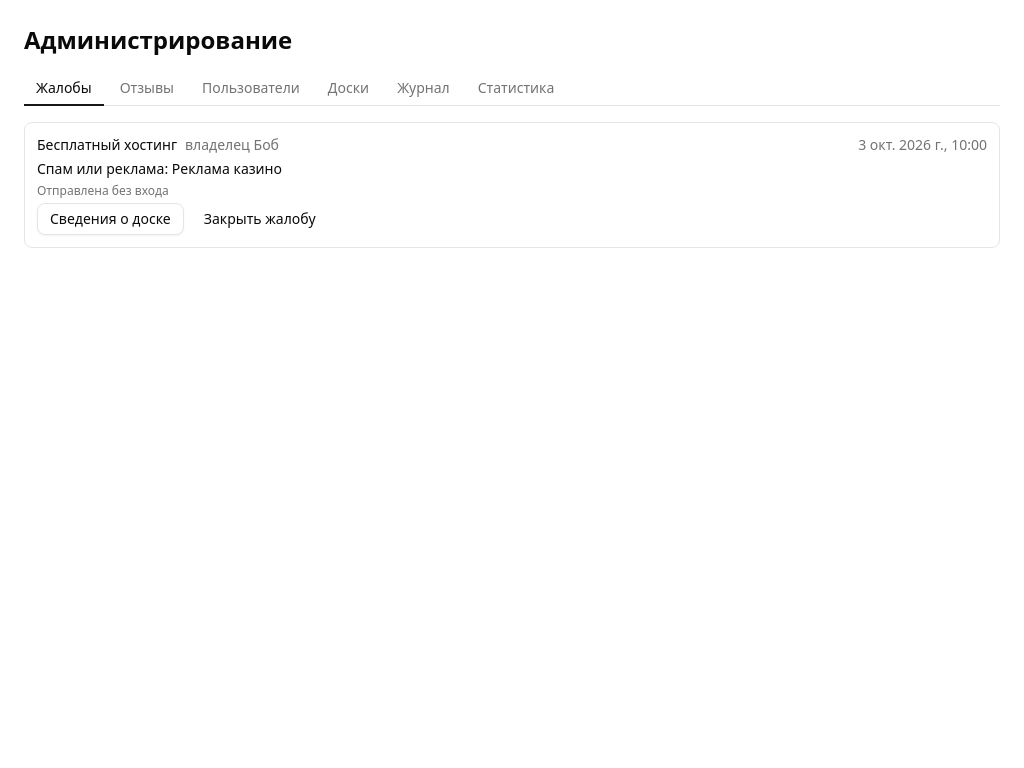
Scenario: AdminPage › deletes an account once the administrator confirms it, and says why it cannot when a workspace needs its owner
The image size is (1024, 768).
Step 1. Click the tab "Пользователи" → [251, 89], box [190, 72, 312, 106]
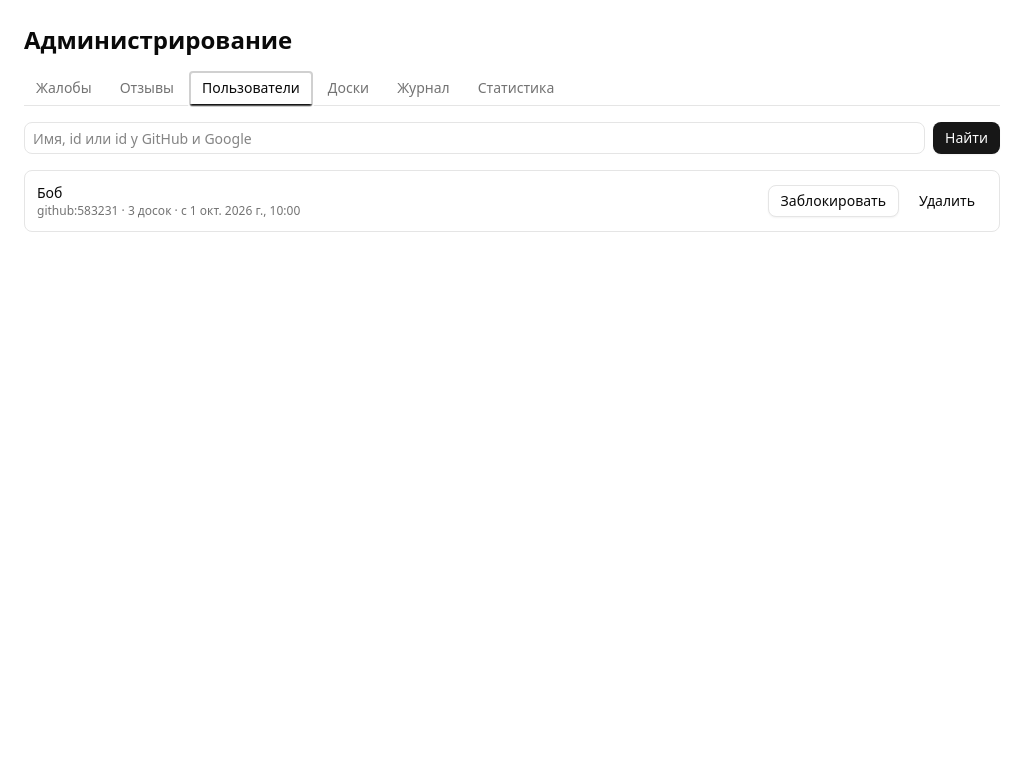
Step 2. Click the button "Удалить" → [947, 201], box [907, 185, 987, 217]
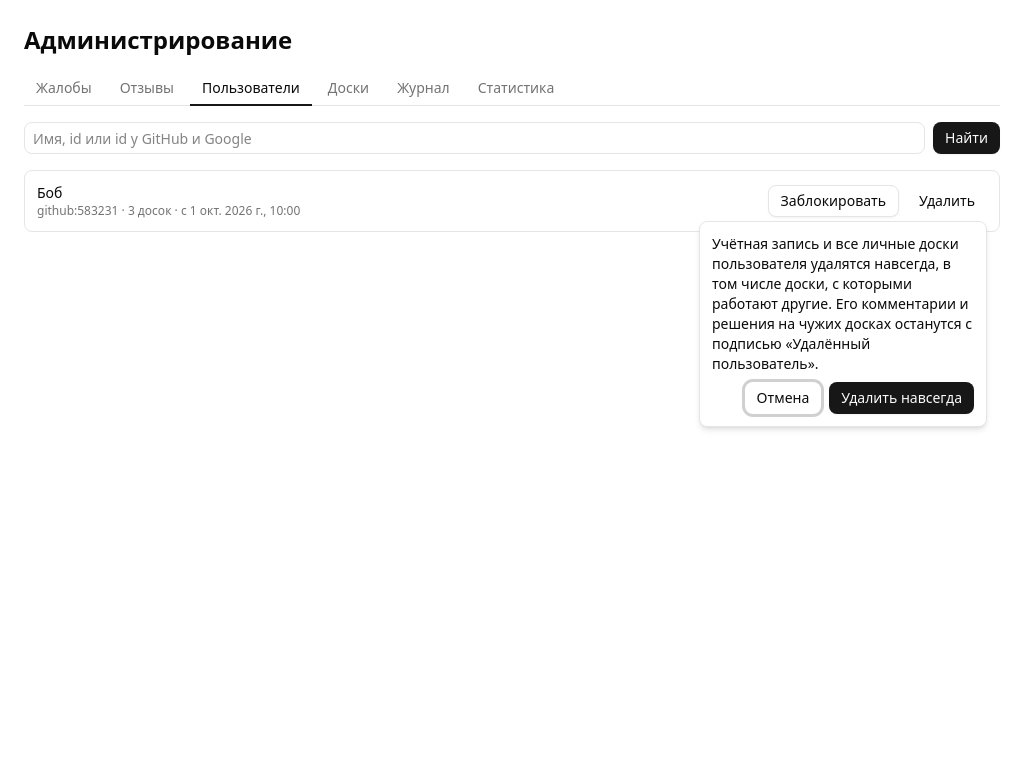
Step 3. Click the button "Удалить навсегда" → [902, 398], box [829, 382, 974, 414]
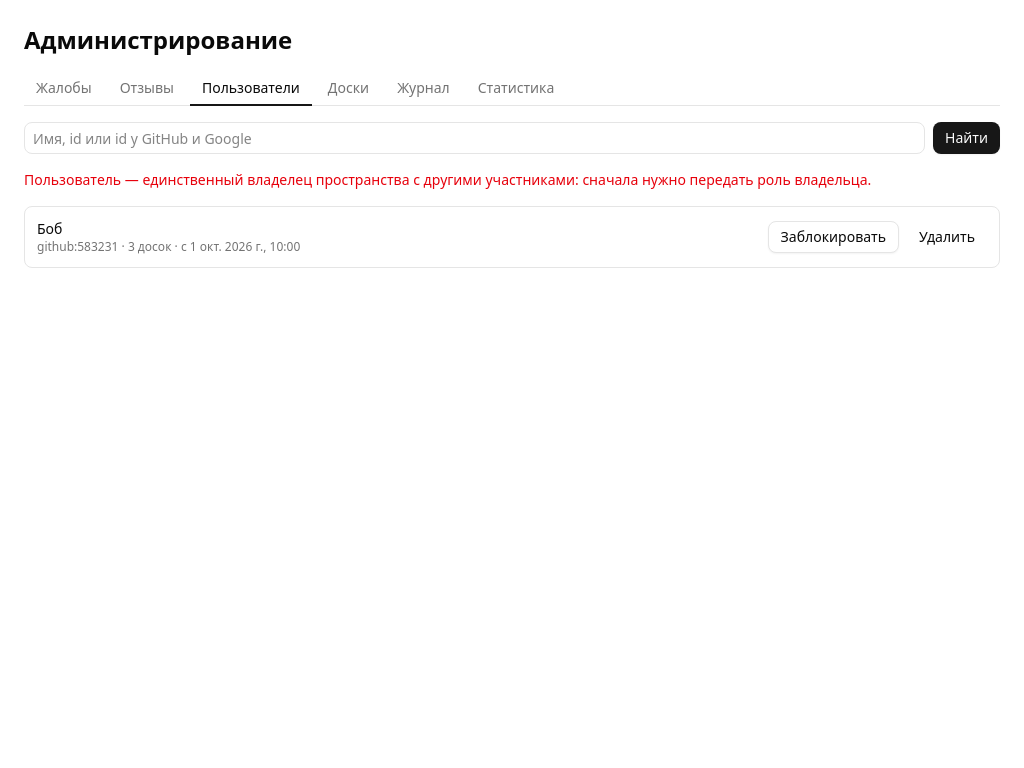
Check: the message shows "единственный владелец пространства", box [24, 170, 871, 189]
Step 4. Click the button "Удалить" → [947, 237], box [907, 221, 987, 253]
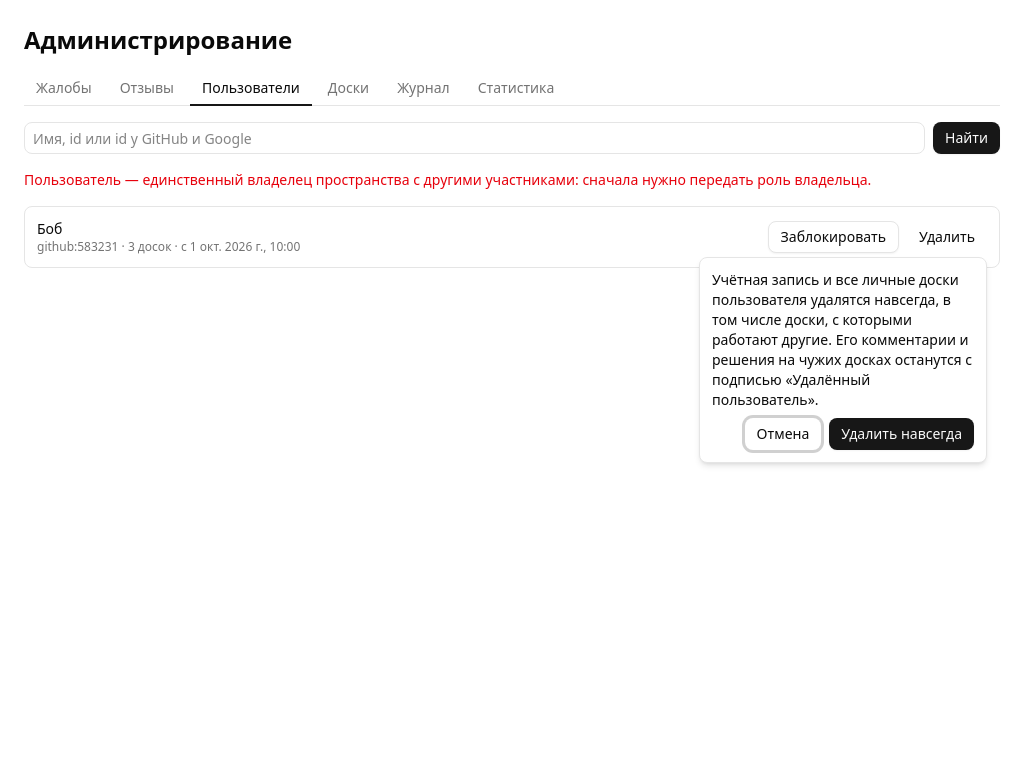
Step 5. Click the button "Удалить навсегда" → [902, 434], box [829, 418, 974, 450]
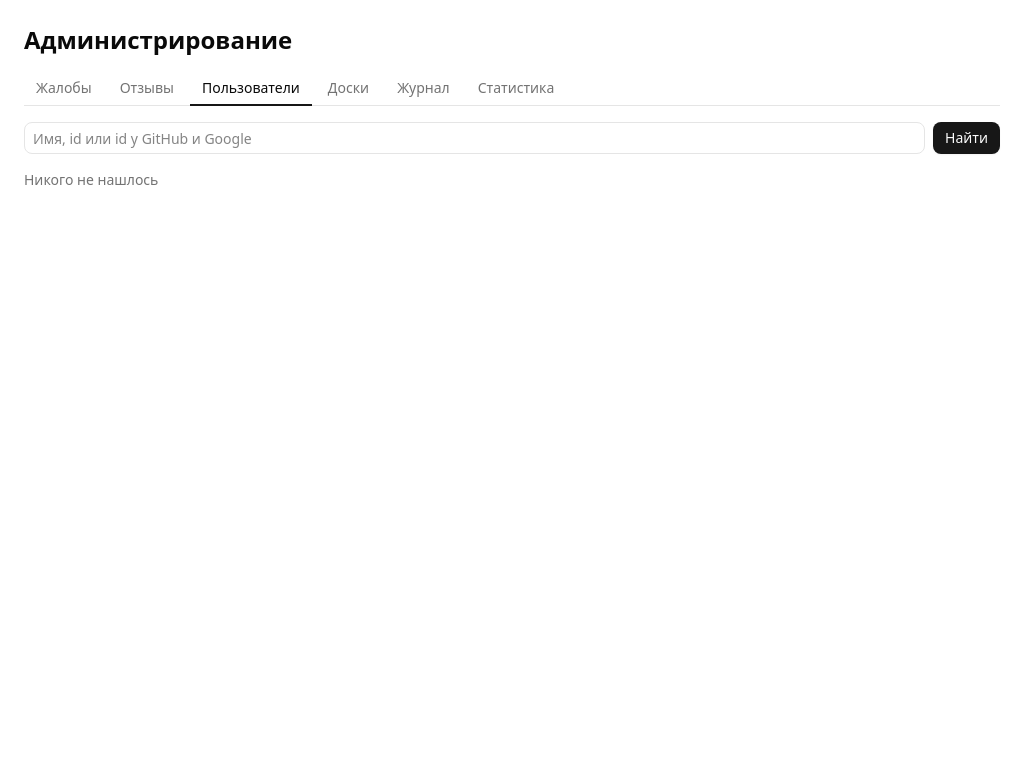
Check: the text "Никого не нашлось" is shown, box [24, 170, 158, 189]
